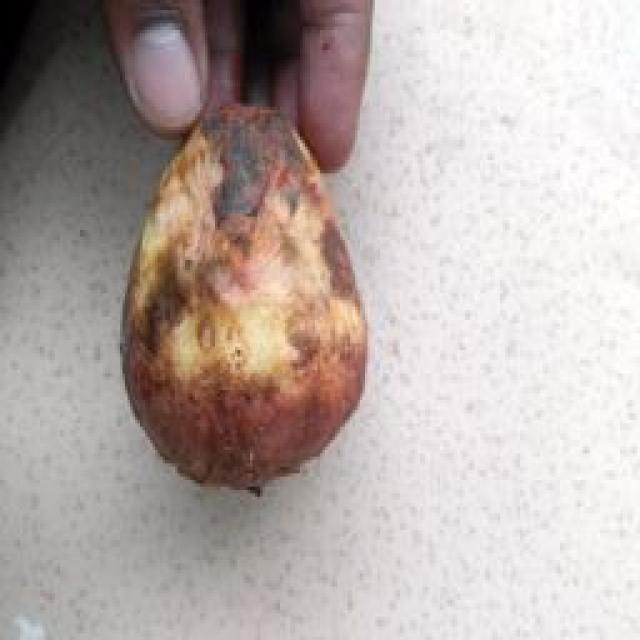Bad_Guava: (124, 107, 366, 486)
